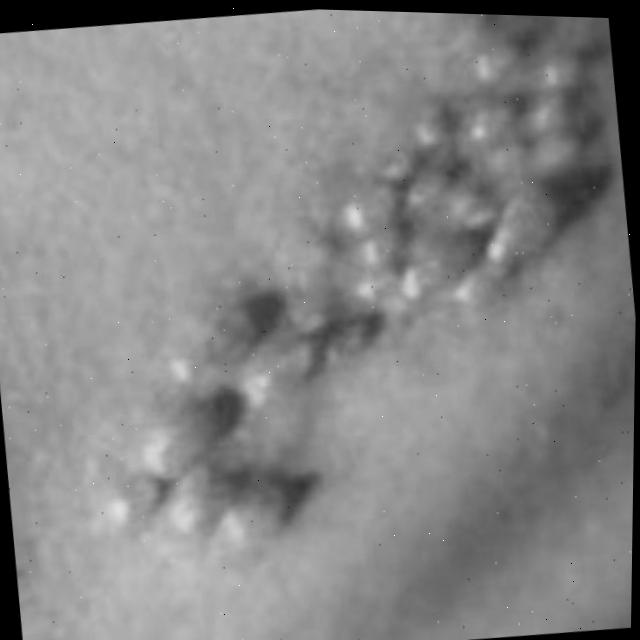Shingles: (50, 2, 640, 580)
